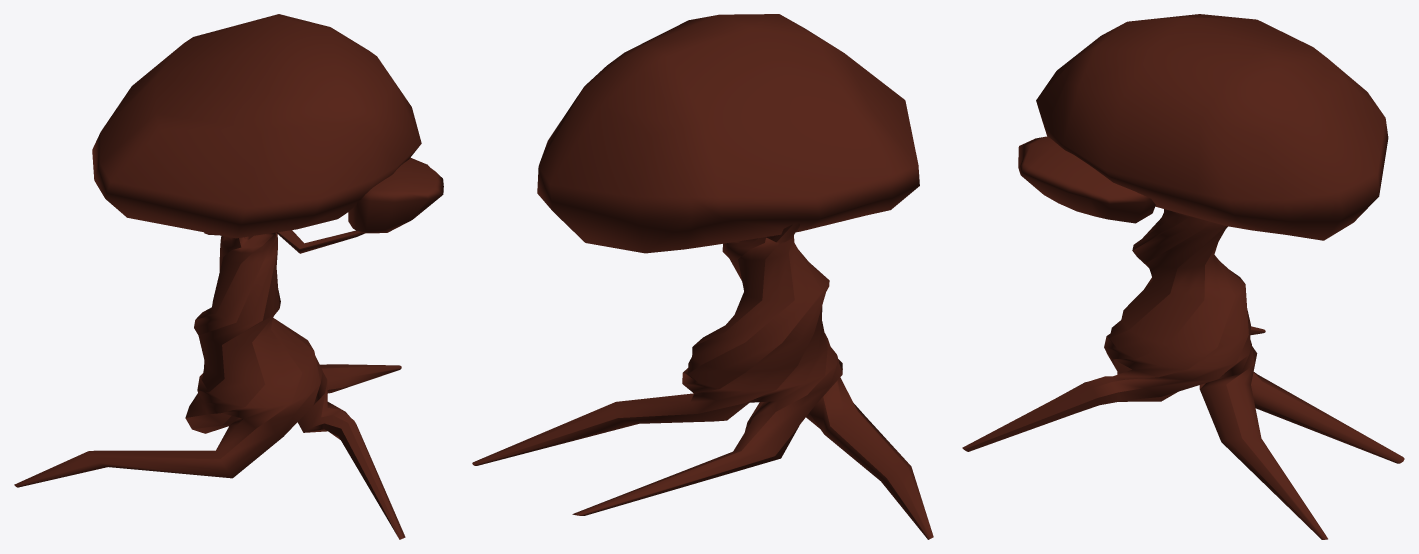
Rendered from Mesh_Hikari_Tree01.FBX.
3 views of the same model, side by side, from view 1: azimuth 30°, elevation 25°; view 2: azimuth 150°, elevation 25°; view 3: azimuth 270°, elevation 25° (orthographic). The views are drawn at different scales.
Parts seen in each view (by area): view 1: Mesh_HikariTree01; view 2: Mesh_HikariTree01; view 3: Mesh_HikariTree01.
Boxes of the visible parts, x1,y1,x2,y2 form: Mesh_HikariTree01: [14, 14, 443, 539]; Mesh_HikariTree01: [472, 14, 933, 539]; Mesh_HikariTree01: [962, 14, 1404, 539].
Size of the model in its own units: 6.82 by 6.62 by 6.23.
